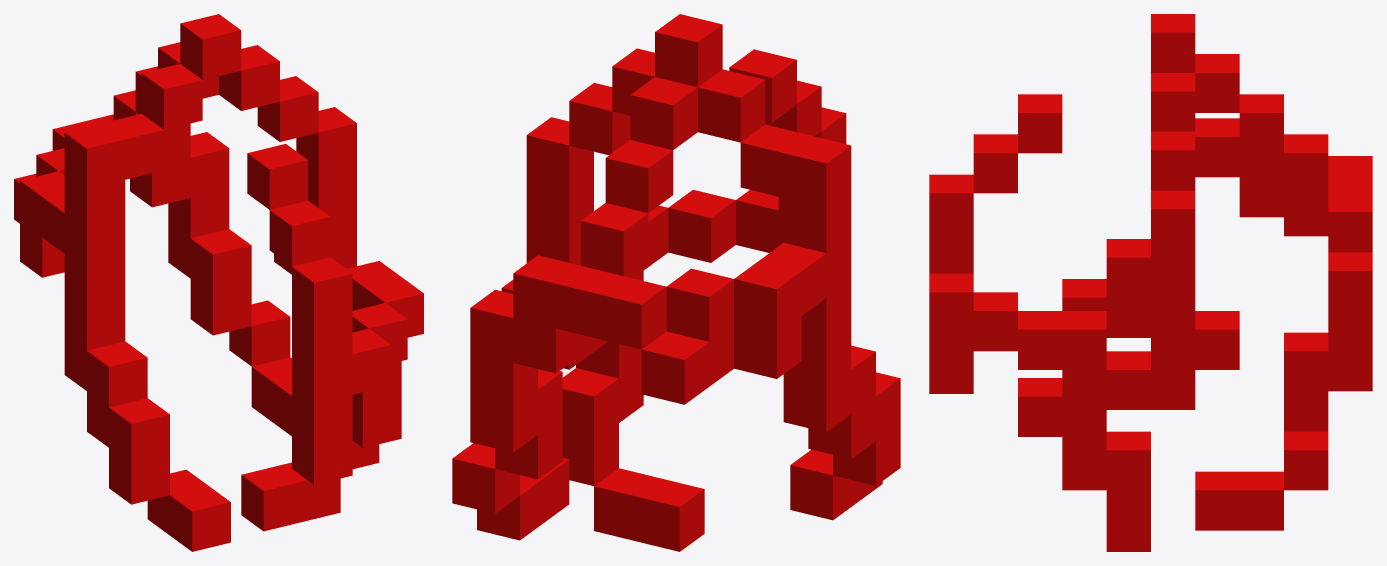
File: ombro-1.obj
3 renders of one model, left to right at view 1: azimuth 30°, elevation 25°; view 2: azimuth 150°, elevation 25°; view 3: azimuth 270°, elevation 25°, orthographic. The views are drawn at different scales.
Bounding box in the file's own units: 0.7 × 1.2 × 1.
Materials: 1 (1 with a texture image).
